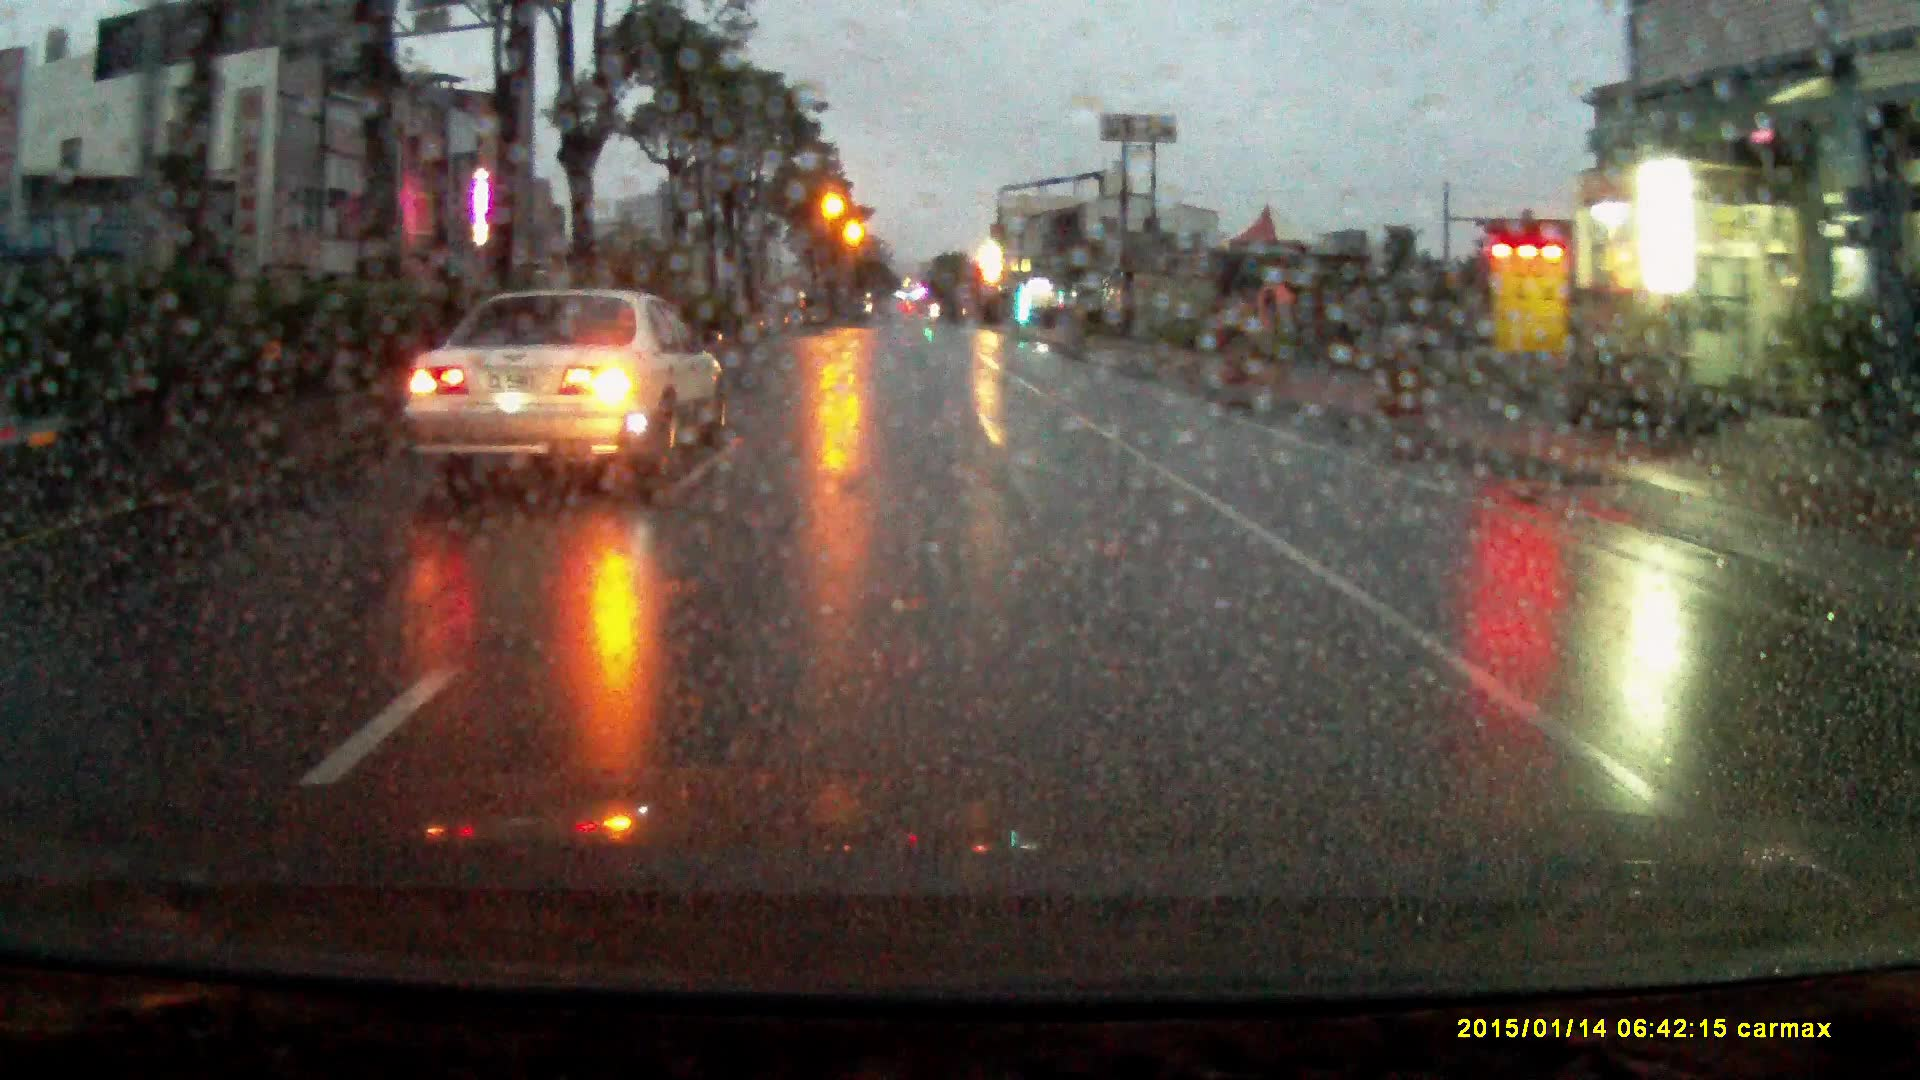vehicle: (402, 289, 735, 502)
